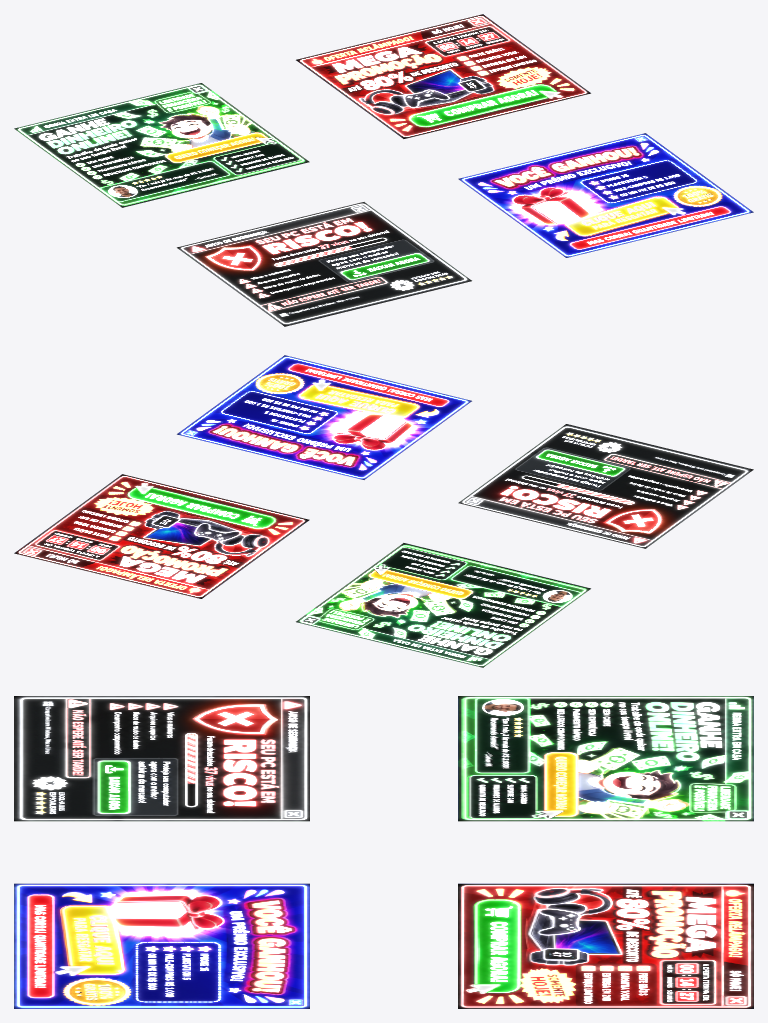
Rendered from popups.glb.
3 renders of one model, top to bottom at view 1: azimuth 30°, elevation 25°; view 2: azimuth 150°, elevation 25°; view 3: azimuth 270°, elevation 25°, orthographic. The views are drawn at different scales.
Parts seen in each view (by area): view 1: pop-up.b, pop-up.d, pop-up.a, pop-up.c; view 2: pop-up.a, pop-up.c, pop-up.b, pop-up.d; view 3: pop-up.a, pop-up.b, pop-up.c, pop-up.d.
Part boxes in pixels (x1,y1,x2,y2): pop-up.b: (458, 133, 753, 257); pop-up.d: (14, 83, 309, 207); pop-up.a: (296, 14, 590, 138); pop-up.c: (177, 202, 471, 326); pop-up.a: (14, 474, 309, 598); pop-up.c: (458, 424, 753, 548); pop-up.b: (177, 355, 471, 479); pop-up.d: (296, 543, 590, 667); pop-up.a: (458, 883, 753, 1008); pop-up.b: (14, 883, 309, 1008); pop-up.c: (14, 696, 309, 821); pop-up.d: (458, 696, 753, 821).
Size of the model in its own units: 5 by 0 by 5.
Materials: 1 (1 with a texture image).
